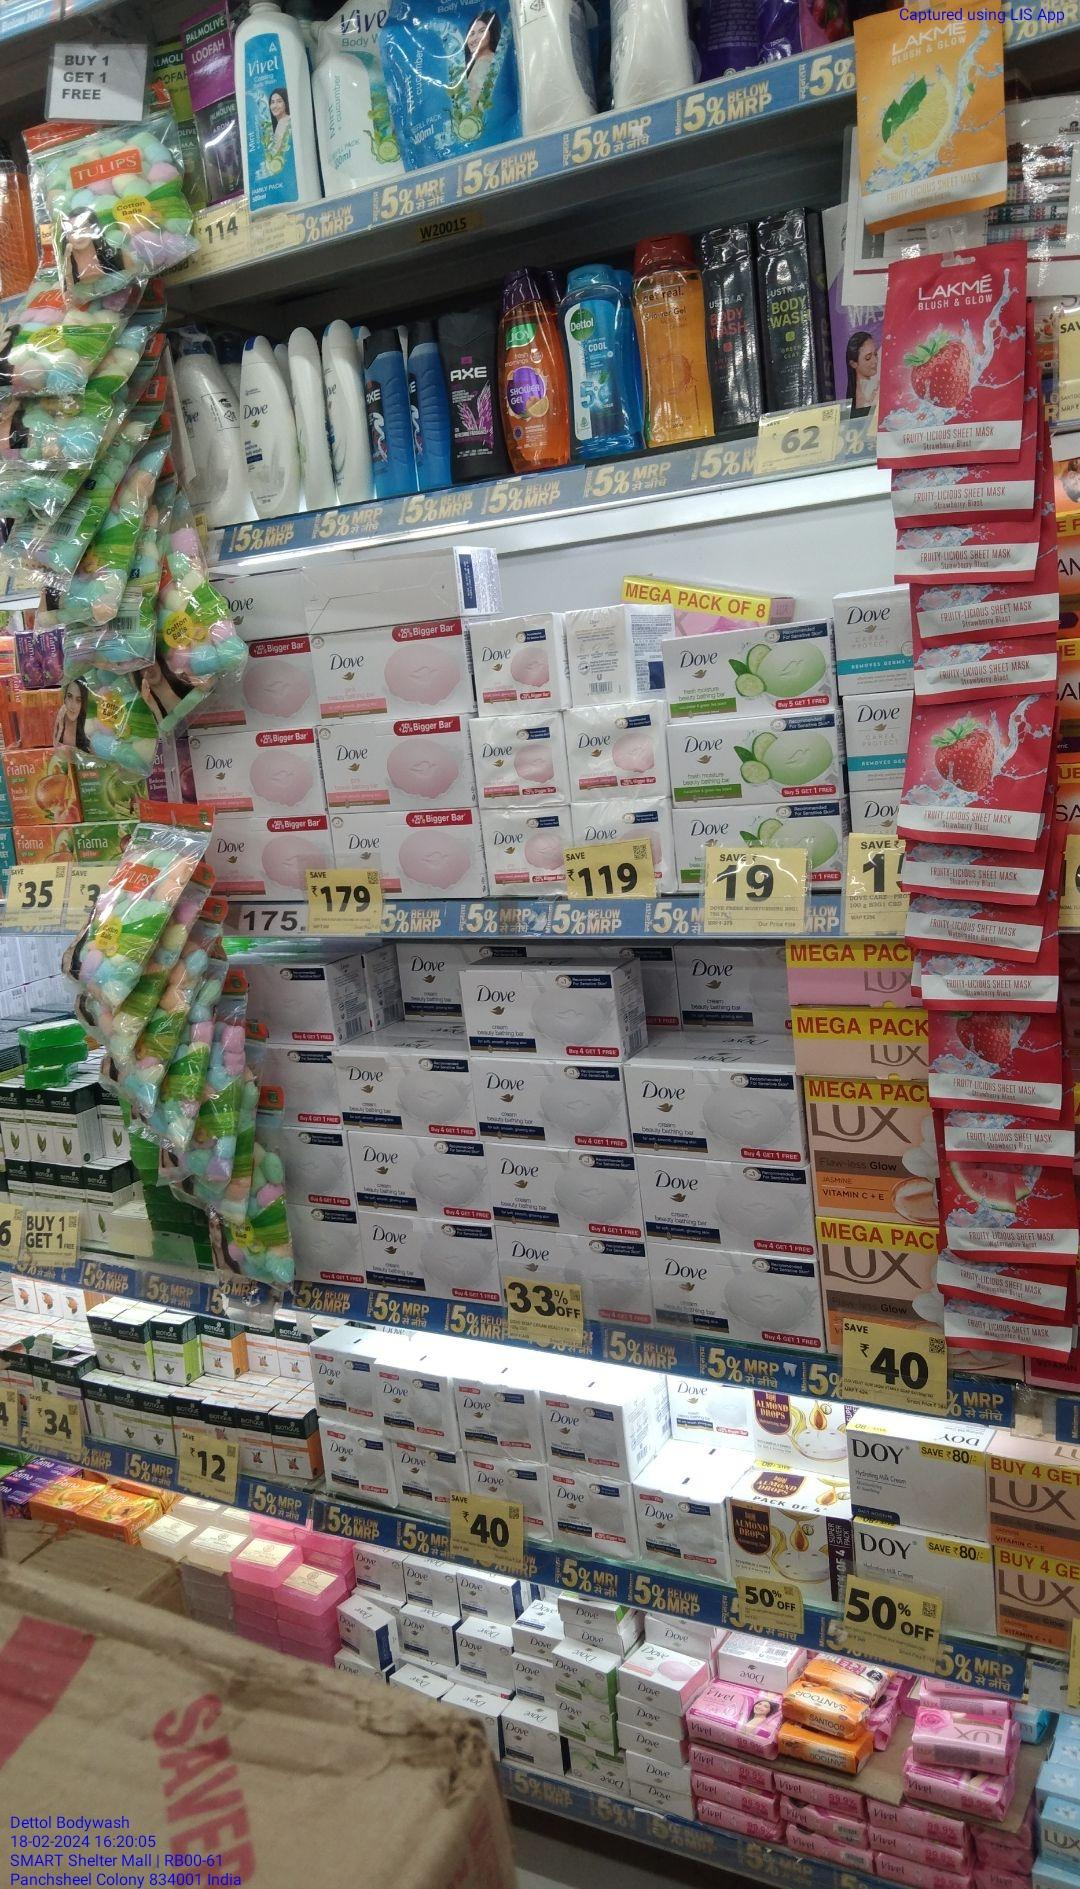Dettol_Bodywash_Cool: (563, 241, 639, 455)
Dove_Deep_Moisture_Body_Wash_250ML: (236, 331, 300, 518)
Get_Real_Shower_Gel_Moisturising_Glycerin_300ML: (645, 232, 709, 444)
Joy_Shower_Gel_Mandarin_and_Lemongrass_250ML: (504, 258, 566, 470)
